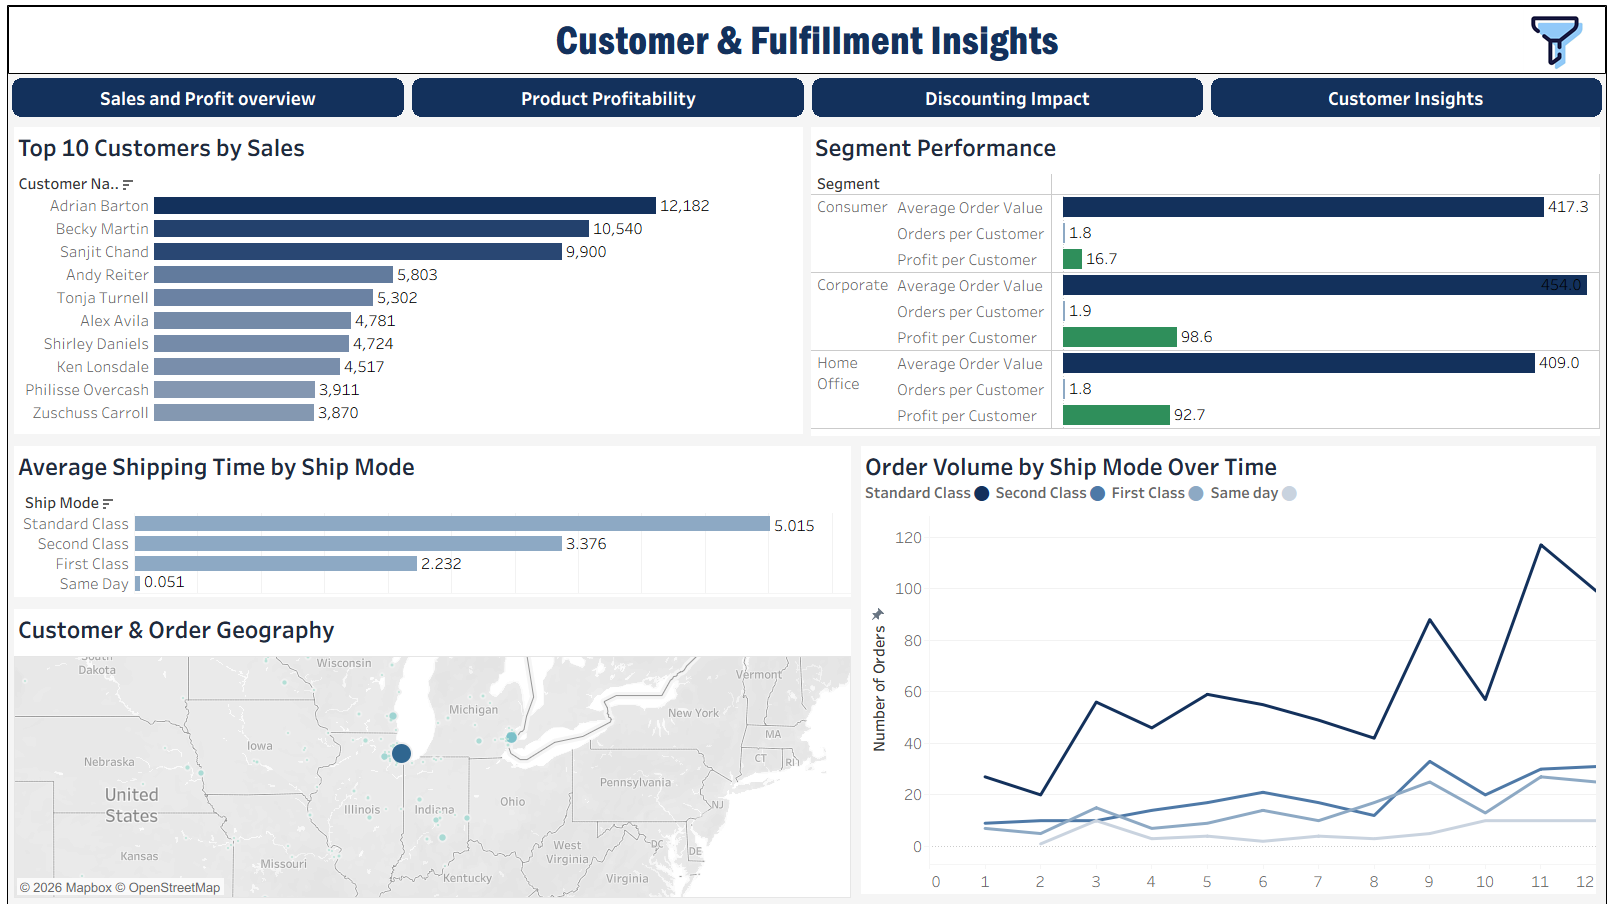

What the dashboard file says about the page in this screenshot:
{"tool":"tableau","page":{"name":"Customer & Fulfillment Insights ","canvas":[1600,900],"ordinal":0},"visuals":[{"type":"text","box":[1,1,1598,68]},{"type":"dashboard-object","box":[1506.7,3.4,80,63]},{"type":"dashboard-object","box":[1,69,400,47]},{"type":"dashboard-object","box":[401,69,400,47]},{"type":"dashboard-object","box":[801,69,399,47]},{"type":"dashboard-object","box":[1200,69,399,47]},{"type":"blank","box":[1309.3,82.9,280,35]},{"type":"text","box":[1309.3,117.9,280,38]},{"type":"worksheet","title":"Top 10 Customers by Sales","mark":"Automatic","rows":["CustomerName"],"cols":["Sales"],"box":[3,118,797,315]},{"type":"worksheet","title":"Segment Performance","mark":"Bar","rows":["Segment"],"box":[800,118,797,315]},{"type":"parameter","param":"[Parameters].[Parameter 1773839578595330]","box":[1309.3,155.9,280,56]},{"type":"filter","title":"Top 10 Customers by Sales","param":"[federated.0opk25x1w8ugs31a36b841grpmjb].[none:Segment:nk]","box":[1309.3,211.9,280,61]},{"type":"filter","title":"Shipping Time","param":"[federated.0opk25x1w8ugs31a36b841grpmjb].[none:ShipMode:nk]","box":[1309.3,272.9,280,100]},{"type":"text","box":[1309.3,372.9,280,37]},{"type":"filter","title":"Top 10 Customers by Sales","param":"[federated.0opk25x1w8ugs31a36b841grpmjb].[none:Category:nk]","box":[1309.3,409.9,280,61]},{"type":"worksheet","title":"Shipping Time","mark":"Automatic","rows":["ShipMode"],"cols":["Calculation_1789783693713408"],"box":[3,437,845,159]},{"type":"worksheet","title":"Order Volume by Ship Mode Over Time","mark":"Automatic","rows":["OrderID"],"cols":["OrderDate"],"box":[854,441,739,452]},{"type":"filter","title":"Top 10 Customers by Sales","param":"[federated.0opk25x1w8ugs31a36b841grpmjb].[none:SubCategory:nk]","box":[1309.3,470.9,280,102]},{"type":"text","box":[1309.3,572.9,280,32]},{"type":"worksheet","title":"Customer & Order Geography","mark":"Automatic","box":[3,596,845,301]},{"type":"filter","title":"Top 10 Customers by Sales","param":"[federated.0opk25x1w8ugs31a36b841grpmjb].[none:State:nk]","box":[1309.3,604.9,280,61]},{"type":"filter","title":"Top 10 Customers by Sales","param":"[federated.0opk25x1w8ugs31a36b841grpmjb].[none:City:nk]","box":[1309.3,665.9,280,61]}]}

Visuals, with their boxes in screenshot pixels (x1, y1, x2, y2), scaled from the page's 1600x900 canvas onto the 1611x907 screenshot:
text: (left=1, top=1, right=1610, bottom=70)
dashboard-object: (left=1517, top=3, right=1598, bottom=67)
dashboard-object: (left=1, top=70, right=404, bottom=117)
dashboard-object: (left=404, top=70, right=807, bottom=117)
dashboard-object: (left=807, top=70, right=1208, bottom=117)
dashboard-object: (left=1208, top=70, right=1610, bottom=117)
blank: (left=1318, top=84, right=1600, bottom=119)
text: (left=1318, top=119, right=1600, bottom=157)
"Top 10 Customers by Sales" worksheet: (left=3, top=119, right=806, bottom=436)
"Segment Performance" worksheet (Bar marks): (left=806, top=119, right=1608, bottom=436)
parameter: (left=1318, top=157, right=1600, bottom=214)
"Top 10 Customers by Sales" filter: (left=1318, top=214, right=1600, bottom=275)
"Shipping Time" filter: (left=1318, top=275, right=1600, bottom=376)
text: (left=1318, top=376, right=1600, bottom=413)
"Top 10 Customers by Sales" filter: (left=1318, top=413, right=1600, bottom=475)
"Shipping Time" worksheet: (left=3, top=440, right=854, bottom=601)
"Order Volume by Ship Mode Over Time" worksheet: (left=860, top=444, right=1604, bottom=900)
"Top 10 Customers by Sales" filter: (left=1318, top=475, right=1600, bottom=577)
text: (left=1318, top=577, right=1600, bottom=610)
"Customer & Order Geography" worksheet: (left=3, top=601, right=854, bottom=904)
"Top 10 Customers by Sales" filter: (left=1318, top=610, right=1600, bottom=671)
"Top 10 Customers by Sales" filter: (left=1318, top=671, right=1600, bottom=733)
